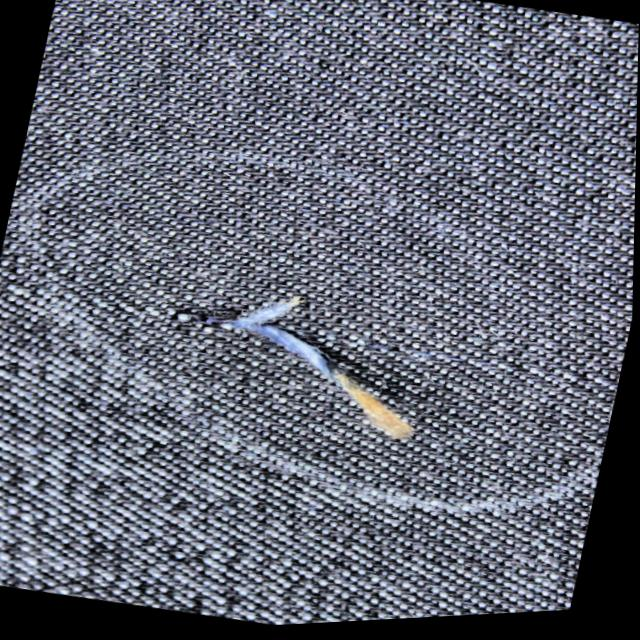Stitch: (157, 253, 497, 488)
